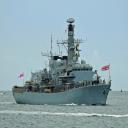Fragata: (13, 18, 115, 105)
